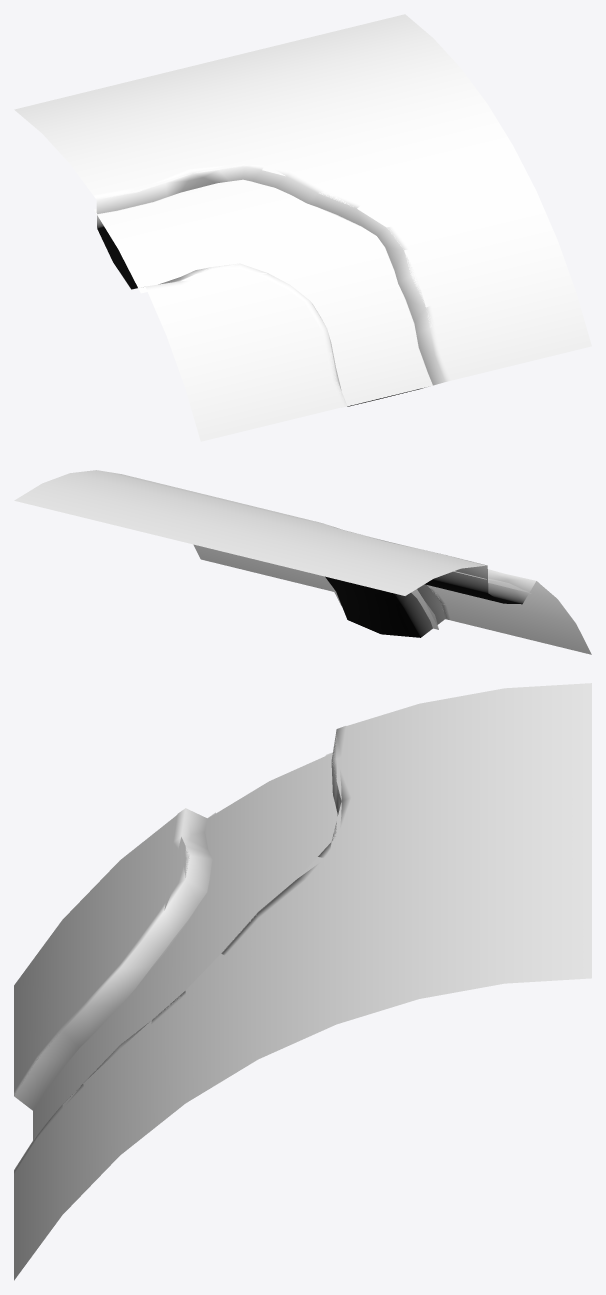
The model's file is grd_Res_0.dae.
3 views of the same model, one above another, from view 1: azimuth 30°, elevation 25°; view 2: azimuth 150°, elevation 25°; view 3: azimuth 270°, elevation 25° (orthographic). The views are drawn at different scales.
Visible parts, largest first — view 1: grass_1_0, river_2_0, cliff_river_0_0, river_edge_3_0; view 2: grass_1_0, cliff_river_0_0, river_2_0; view 3: grass_1_0, river_2_0, cliff_river_0_0, river_edge_3_0.
Boxes of the visible parts, x1,y1,x2,y2 form: grass_1_0: [14, 14, 591, 441]; river_2_0: [94, 180, 432, 405]; cliff_river_0_0: [93, 161, 450, 406]; river_edge_3_0: [94, 179, 438, 407]; grass_1_0: [14, 470, 591, 654]; cliff_river_0_0: [311, 520, 538, 637]; river_2_0: [330, 571, 531, 629]; grass_1_0: [14, 683, 591, 1280]; river_2_0: [33, 753, 337, 1139]; cliff_river_0_0: [14, 726, 351, 1173]; river_edge_3_0: [33, 752, 337, 1114].
Size of the model in its own units: 512 by 264 by 423.
4 materials, 1 textured.
